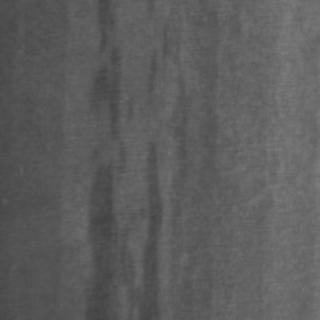inclusion: (84, 0, 156, 316), (87, 0, 133, 164)
